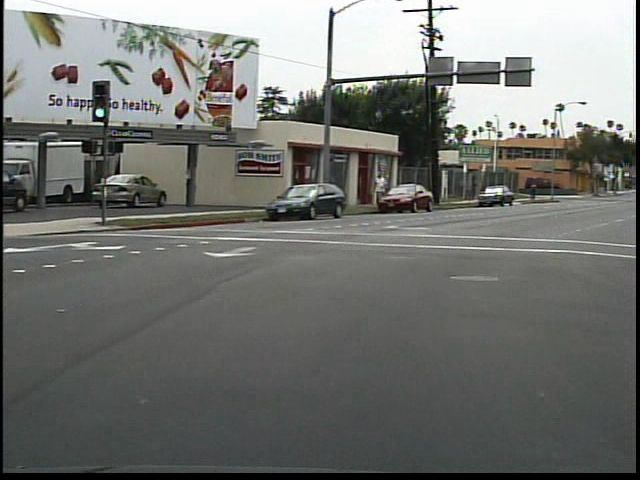person: (370, 166, 392, 211), (529, 179, 541, 204)
